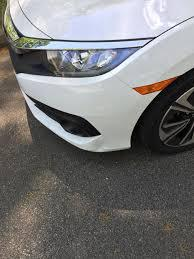front-bumper-dent: (16, 77, 150, 154)
